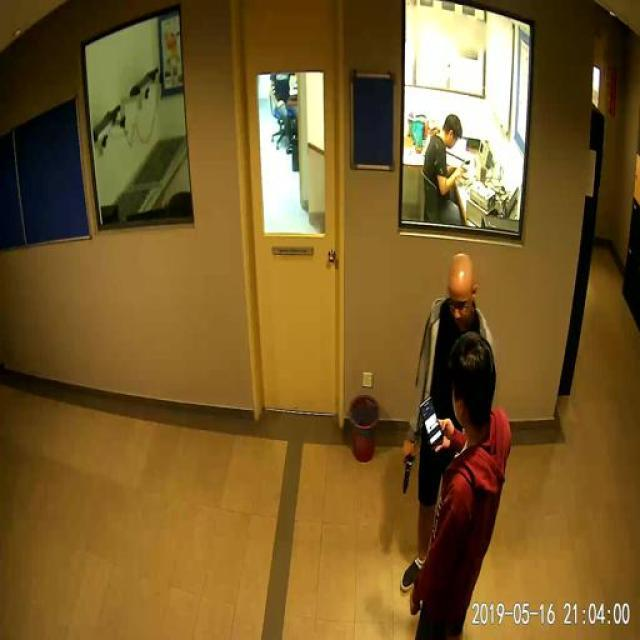Gun: (396, 447, 416, 502)
